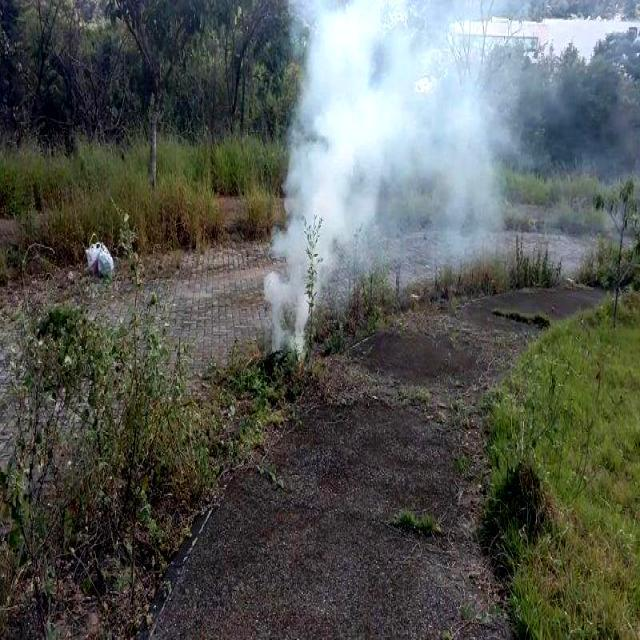Smoke: (263, 0, 584, 347)
